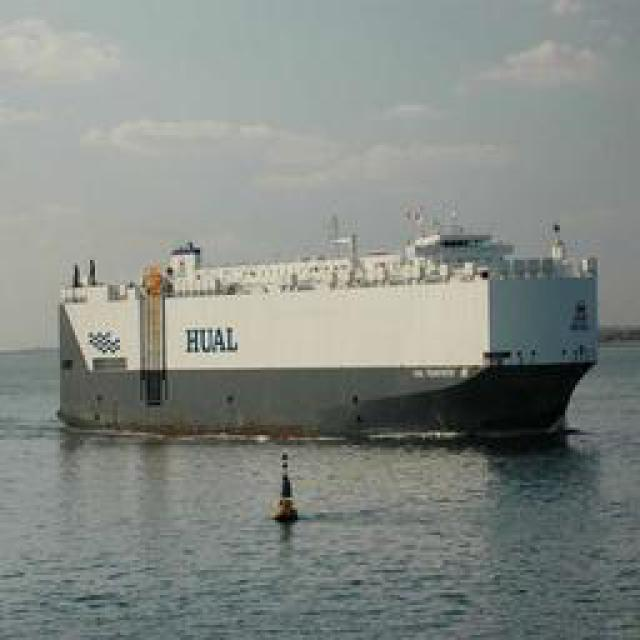Ship: (43, 206, 601, 441)
